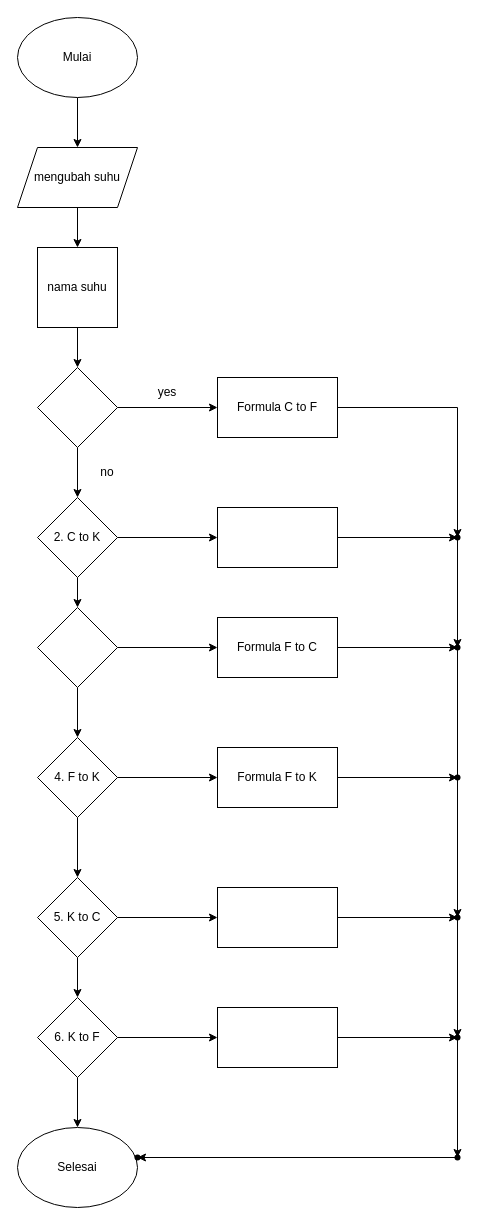
The diagram is 485 pixels wide and 1225 high, and some of its shapes have lost their labels. The shapes that lost their labels are listed below. From the top down, each one's centre as x and y in pixels, then its label:
At point 77,407: "1. C to F".
At point 277,537: "Formula C to K".
At point 77,647: "3. F to C".
At point 277,917: "Formula K to C".
At point 277,1037: "Formula K to F".
